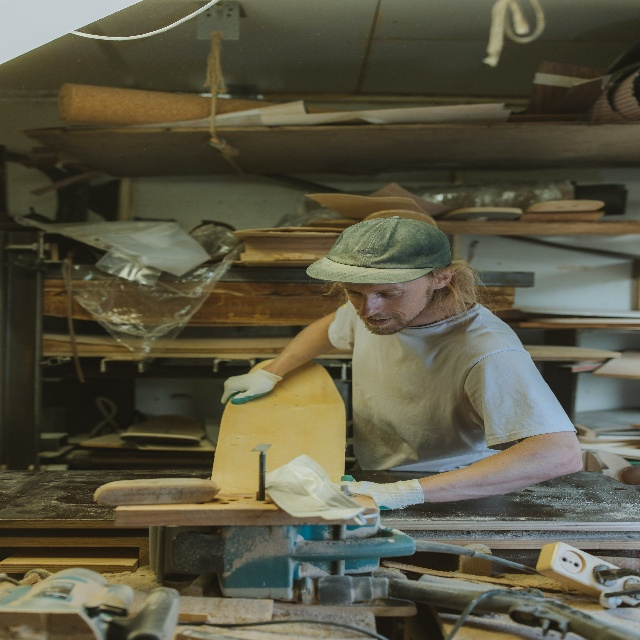Guantes: (335, 467, 423, 511), (220, 368, 284, 405)
